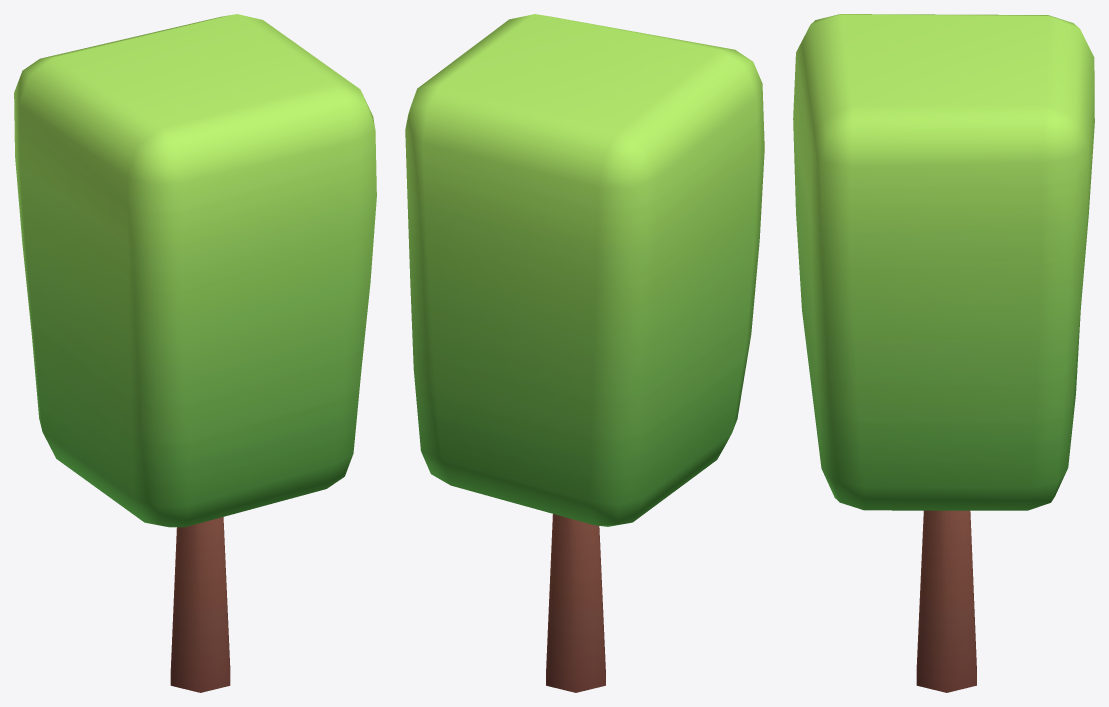
Rendered from city2-tree-01.glb.
The picture shows the model from 3 angles, left to right: view 1: azimuth 30°, elevation 25°; view 2: azimuth 150°, elevation 25°; view 3: azimuth 270°, elevation 25°; orthographic projection.
Visible parts, largest first — view 1: Tree_01; view 2: Tree_01; view 3: Tree_01.
Boxes of the visible parts, box(x1,y1,x2,y2) form: Tree_01: box(14, 14, 376, 692); Tree_01: box(405, 14, 764, 692); Tree_01: box(793, 14, 1094, 692).
Bounding box in the file's own units: 2.77 × 6.3 × 2.78.
1 material, 1 textured.
